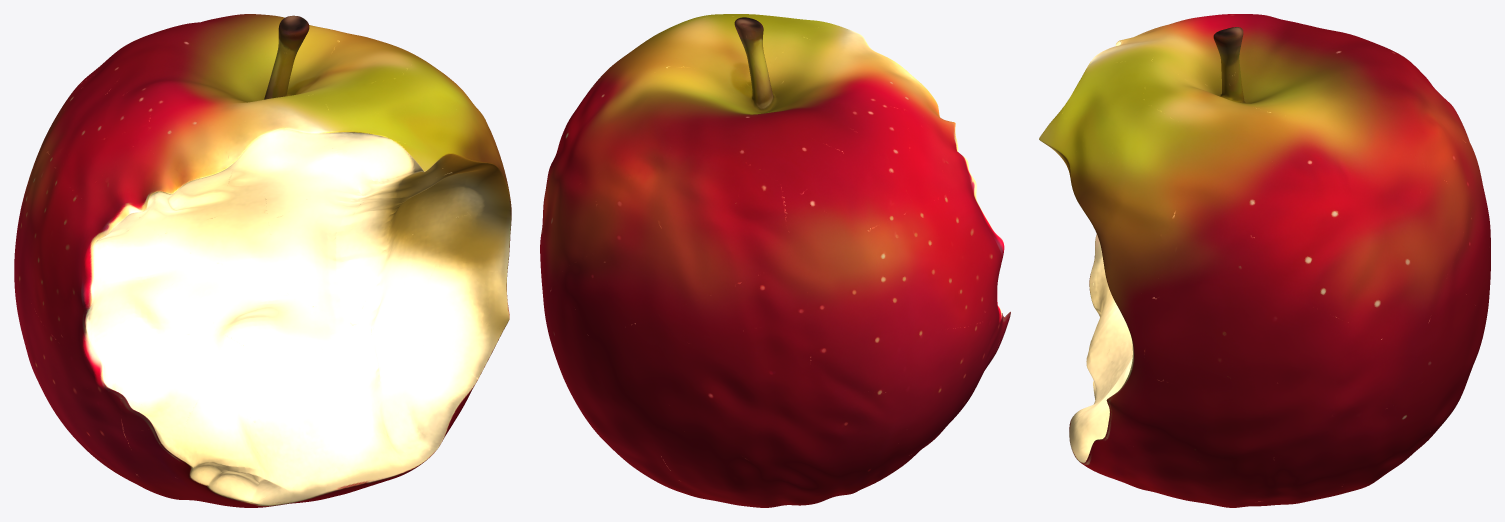
The model's file is Bitten_Apple_New.glb.
The picture shows the model from 3 angles, left to right: view 1: azimuth 30°, elevation 25°; view 2: azimuth 150°, elevation 25°; view 3: azimuth 270°, elevation 25°; orthographic projection. The views are drawn at different scales.
Parts seen in each view (by area): view 1: Mesh_0.002; view 2: Mesh_0.002; view 3: Mesh_0.002.
Boxes of the visible parts, bbox=[...] form: Mesh_0.002: bbox=[14, 14, 511, 507]; Mesh_0.002: bbox=[540, 14, 1010, 507]; Mesh_0.002: bbox=[1039, 14, 1490, 507].
Size of the model in its own units: 0.0696 by 0.07 by 0.0636.
1 material, 1 textured.
